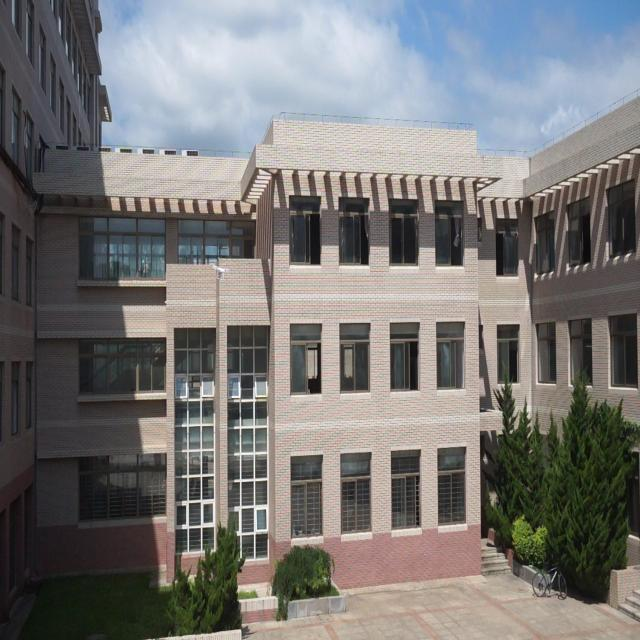drone: (210, 262, 229, 284)
